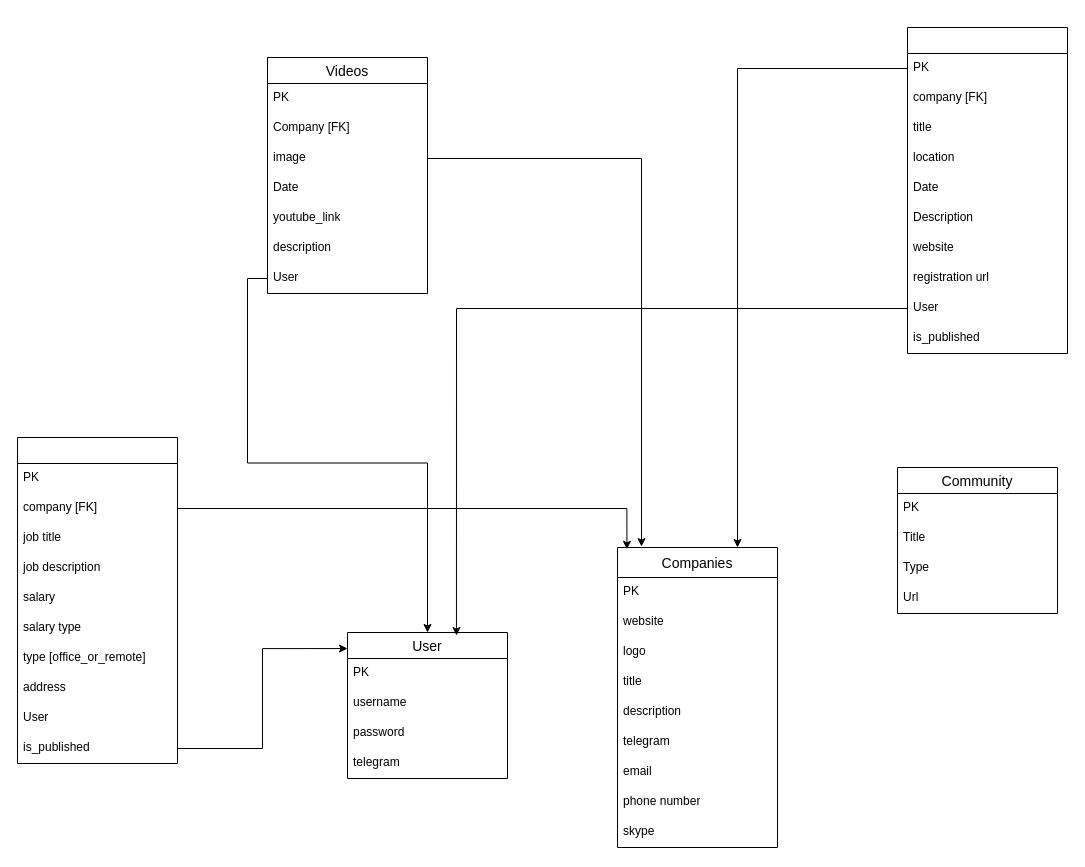
Image size: 1085x867. Some labels were removed from this diagram. The box of each missing label's shape, as (x1, y1, x2, y2) in pixels:
Events: (906, 26, 1068, 354)
Vacancies: (16, 436, 178, 764)
